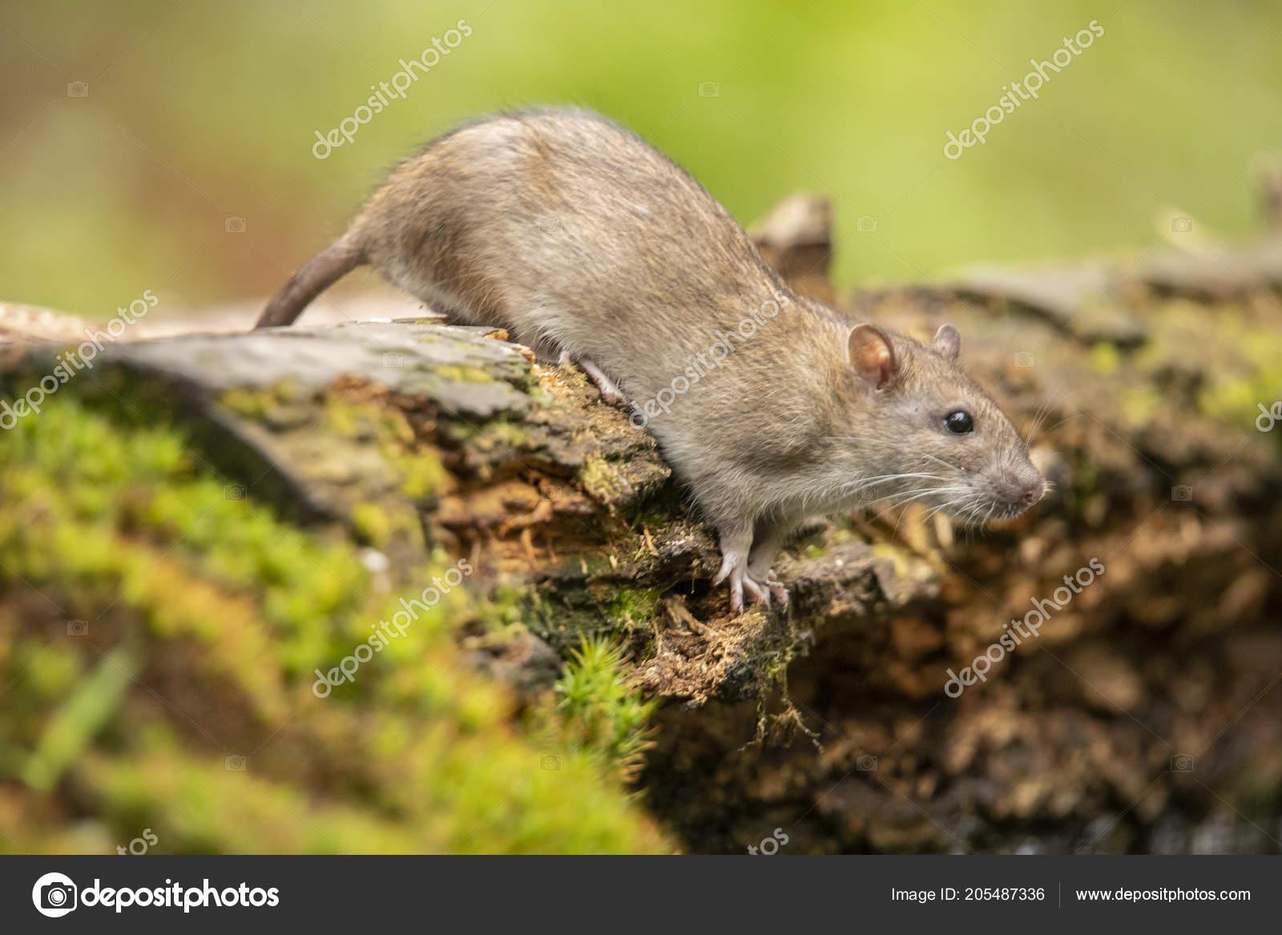rat: (252, 106, 1048, 615)
